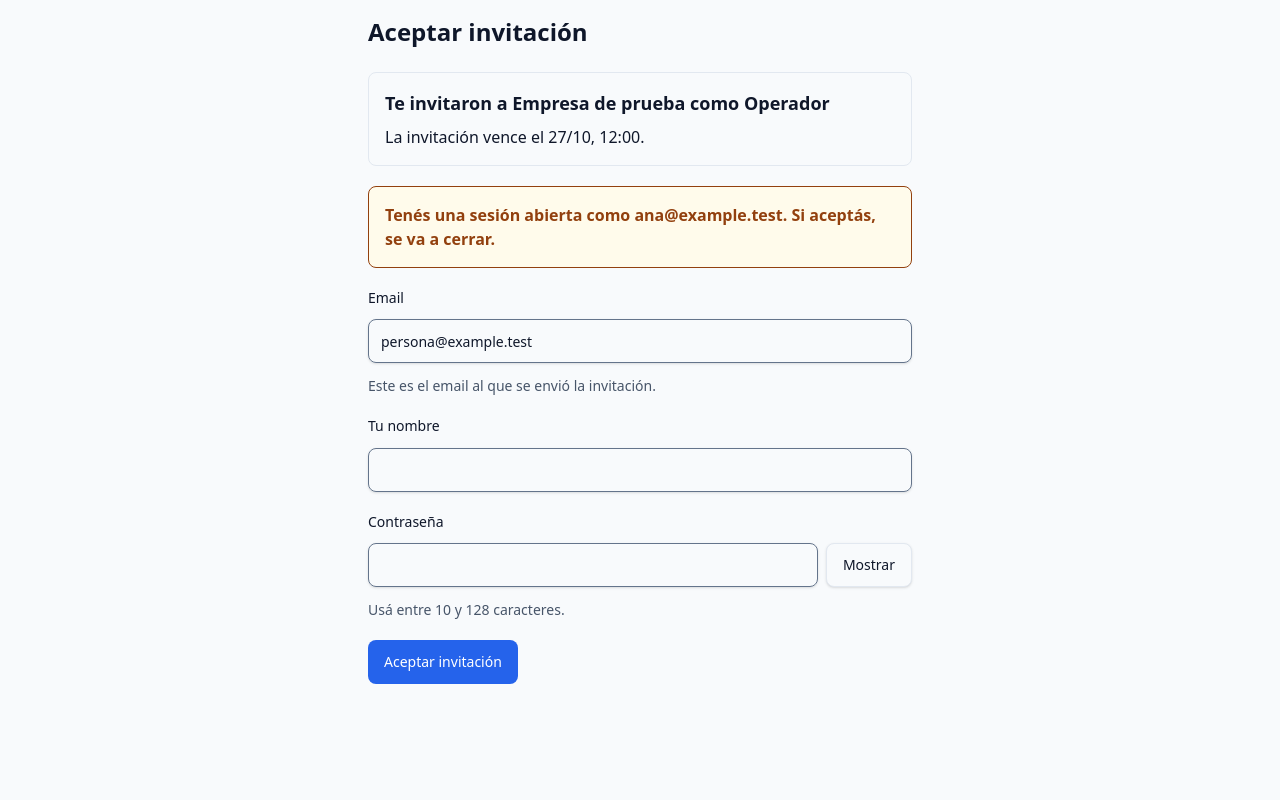
Test: AcceptInvitationPage › shows the verification banner after accepting into an unverified session
In the field labelled "Tu nombre": x=640, y=470 [368,448,912,492], type "Ana Pérez"
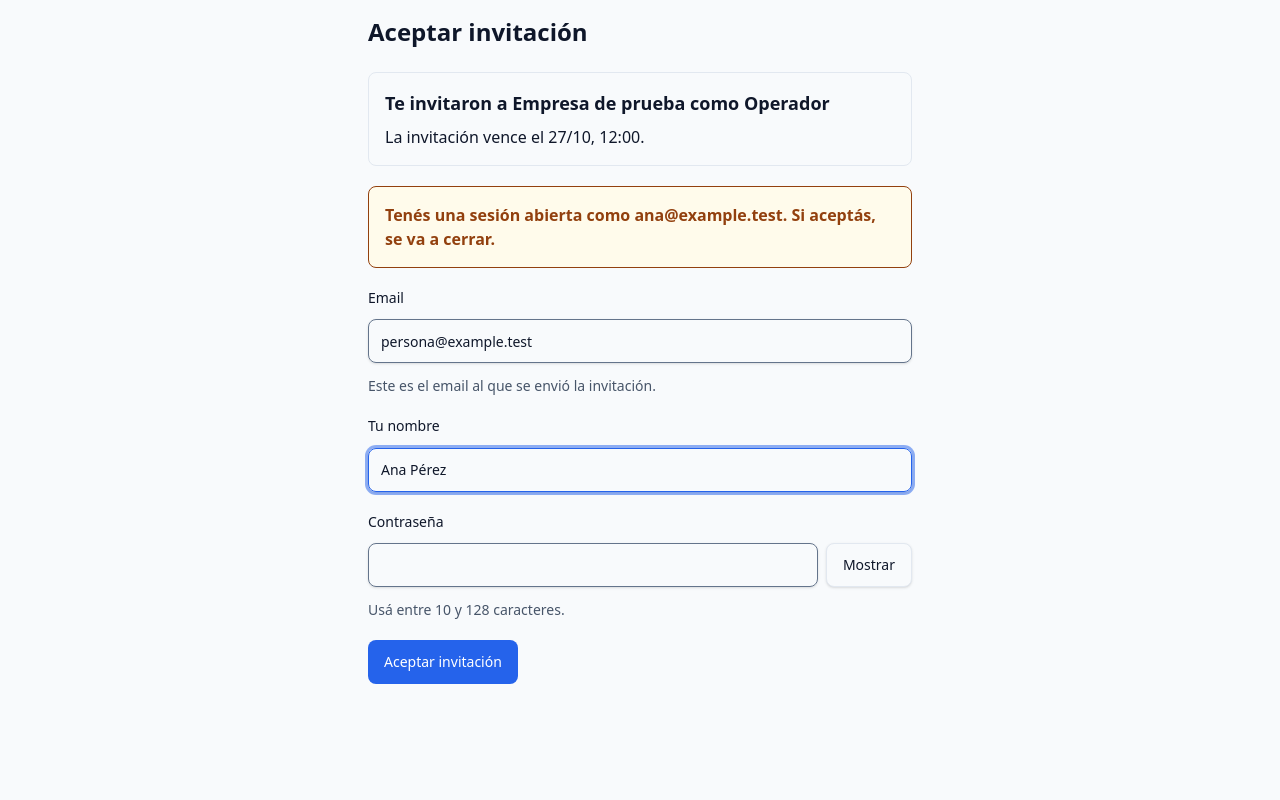
In the password field labelled "Contraseña": x=593, y=565 [368,543,818,587], type "clave-segura-123"
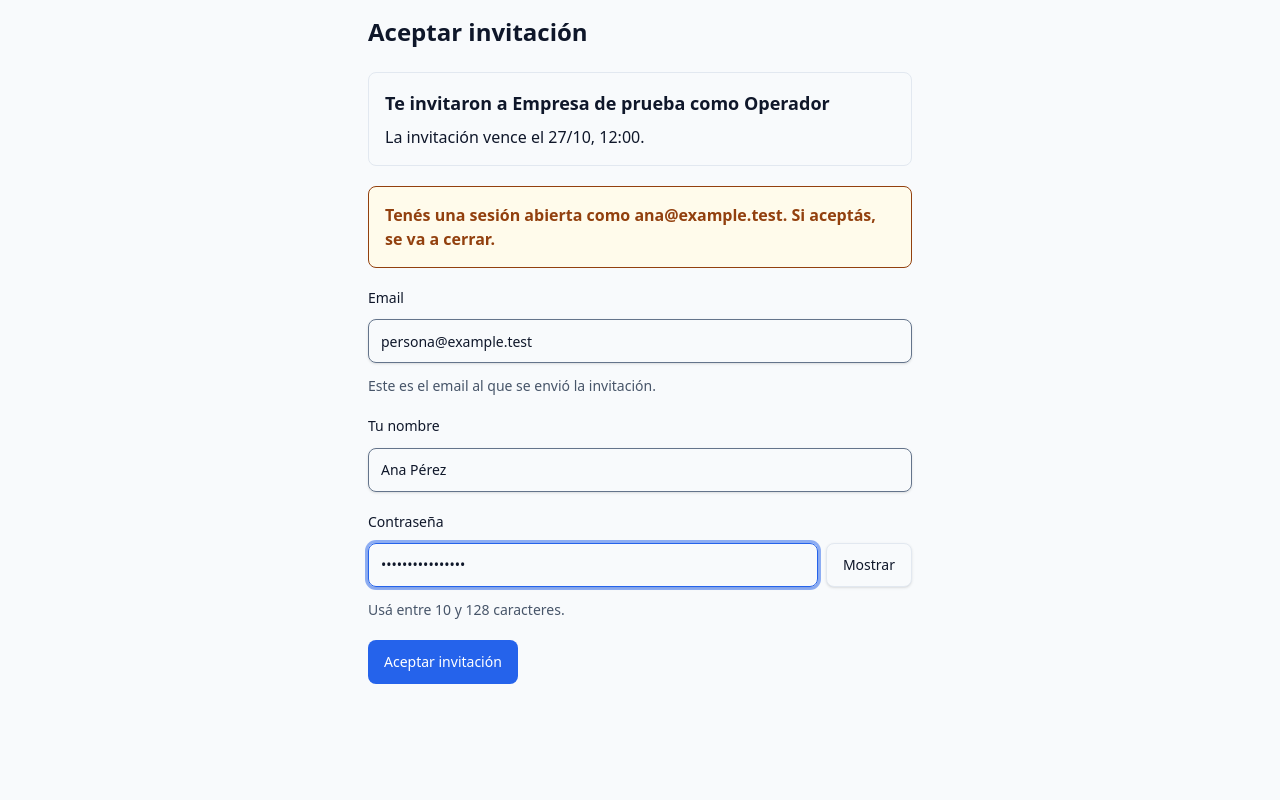
Click the button "Aceptar invitación": x=443, y=662 [368,640,518,684]
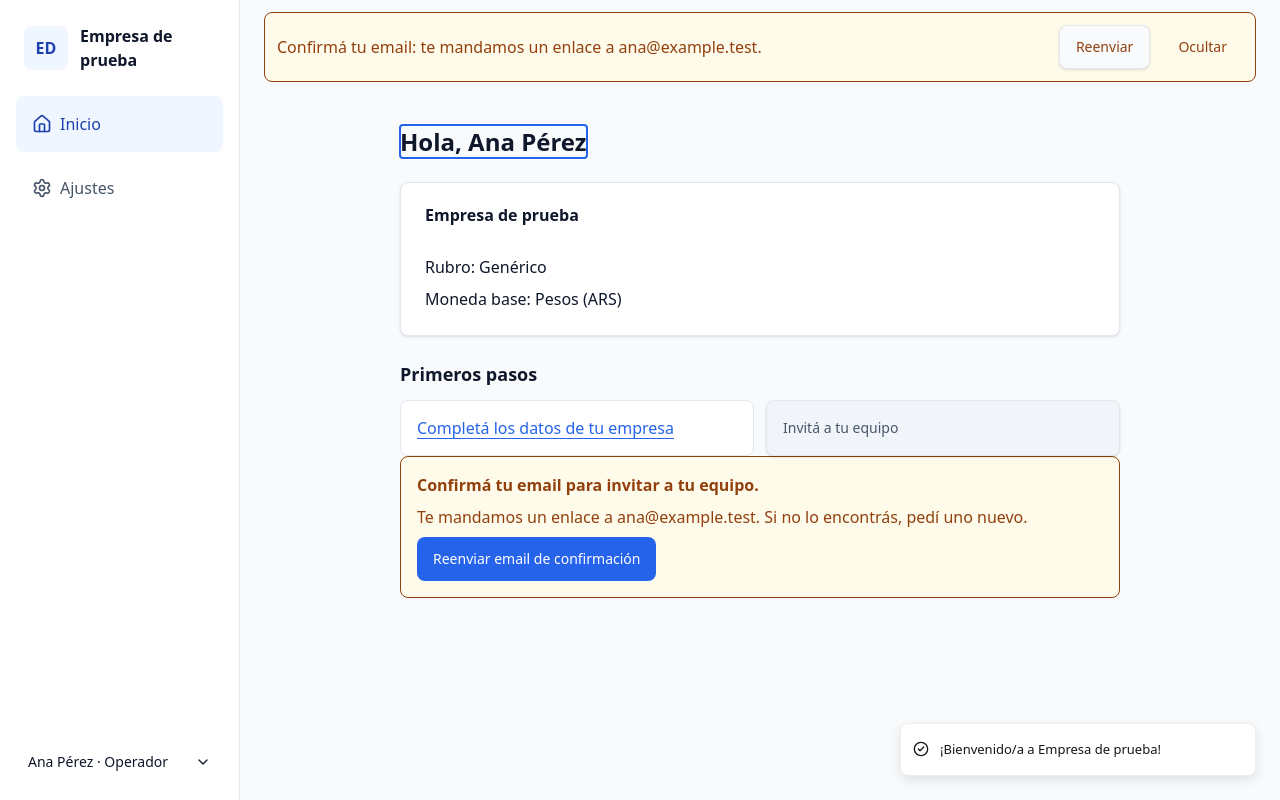
Check: the text "Confirmá tu email: te mandamos un enlace a ana@example.test." is shown, box [277,36,762,58]
